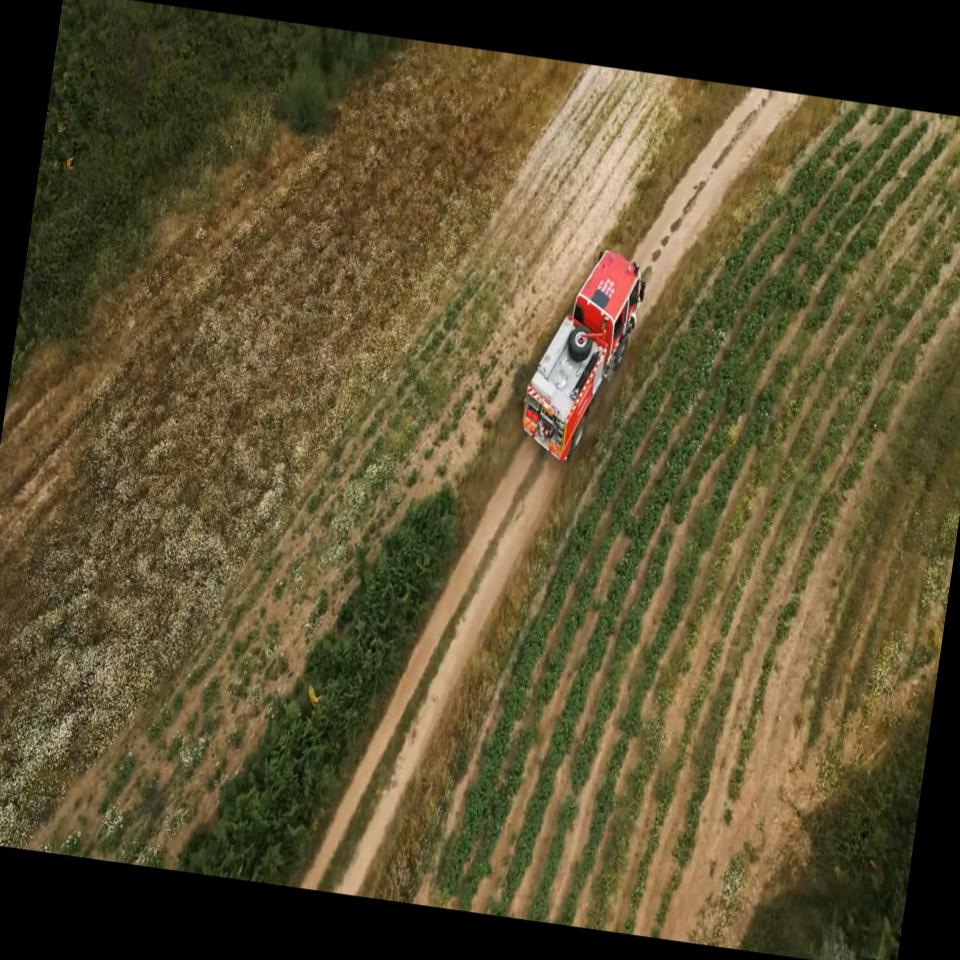viatura: (516, 239, 651, 471)
